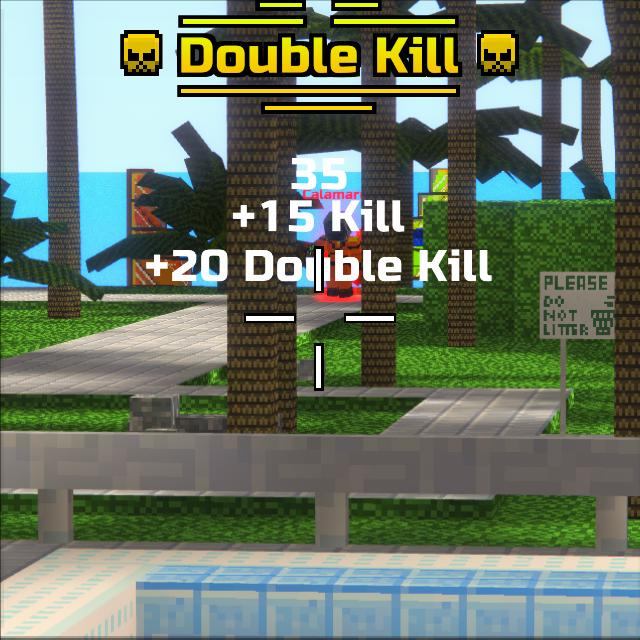Enemy: (312, 211, 361, 298)
